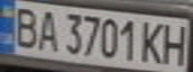0: (100, 15, 121, 60)
1: (118, 16, 139, 62)
3: (60, 9, 84, 55)
7: (78, 11, 103, 57)
A: (33, 7, 60, 52)
B: (6, 3, 42, 50)
H: (160, 20, 190, 66)
K: (139, 18, 169, 64)
